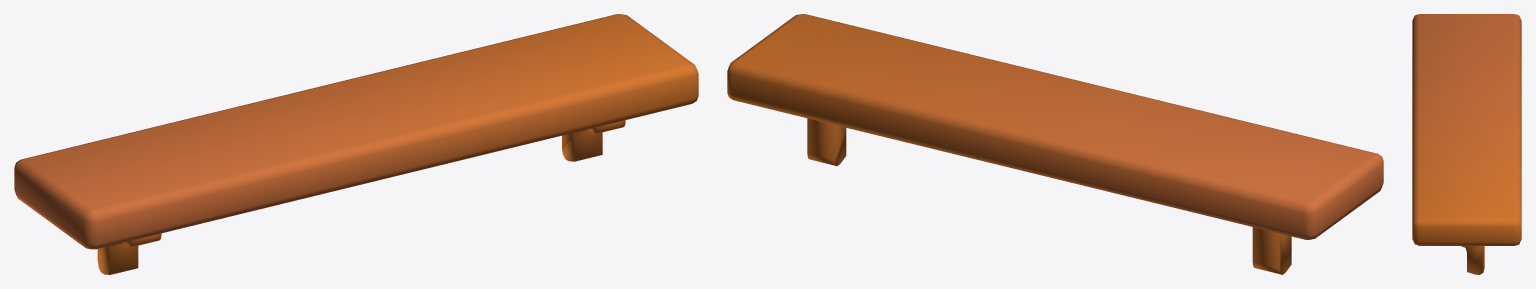
Rendered from Shelf_3.fbx.
3 renders of one model, left to right at view 1: azimuth 30°, elevation 25°; view 2: azimuth 150°, elevation 25°; view 3: azimuth 270°, elevation 25°, orthographic. The views are drawn at different scales.
Visible parts, largest first — view 1: Shelf_3; view 2: Shelf_3; view 3: Shelf_3.
Part boxes in pixels (box(x1,y1,x2,y2)): Shelf_3: box(14, 14, 698, 274); Shelf_3: box(727, 14, 1383, 274); Shelf_3: box(1412, 14, 1521, 274).
Size of the model in its own units: 1.16 by 0.194 by 0.2556.
